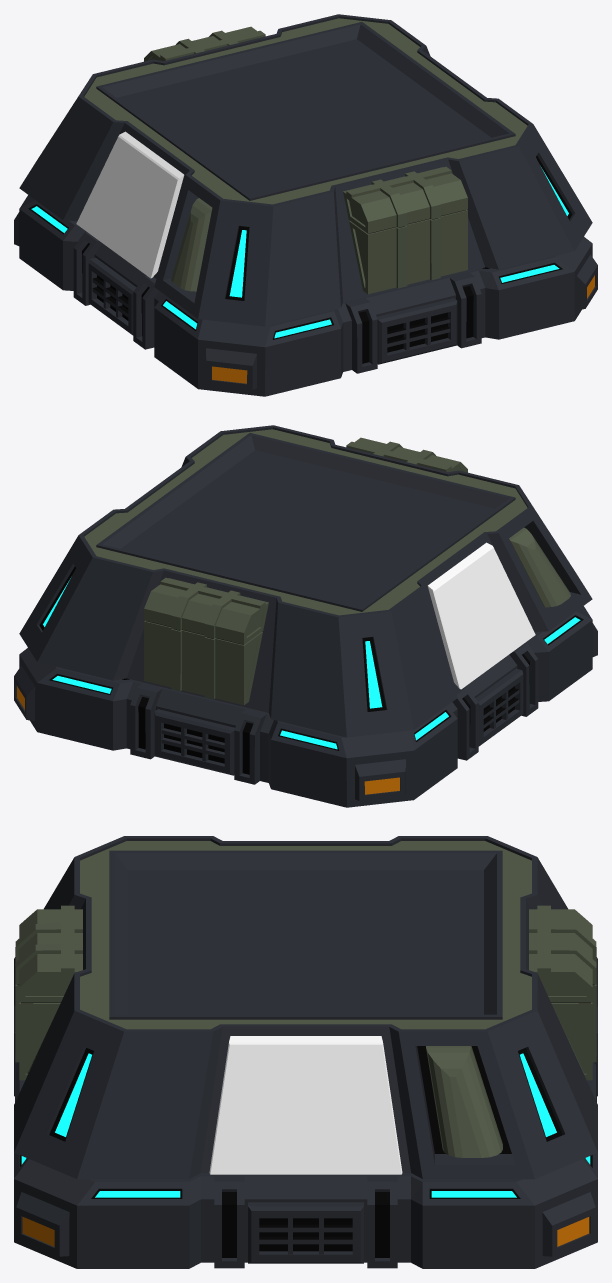
Rendered from SM_Base_Turret_T2.fbx.
3 views of the same model, one above another, from view 1: azimuth 30°, elevation 25°; view 2: azimuth 150°, elevation 25°; view 3: azimuth 270°, elevation 25° (orthographic). The views are drawn at different scales.
Parts seen in each view (by area): view 1: SM_Base_Turret_T2; view 2: SM_Base_Turret_T2; view 3: SM_Base_Turret_T2.
Part boxes in pixels (left/top/right/bottom): SM_Base_Turret_T2: left=14, top=14, right=597, bottom=396; SM_Base_Turret_T2: left=14, top=425, right=597, bottom=807; SM_Base_Turret_T2: left=14, top=836, right=597, bottom=1268.
Size of the model in its own units: 100 by 40 by 100.
